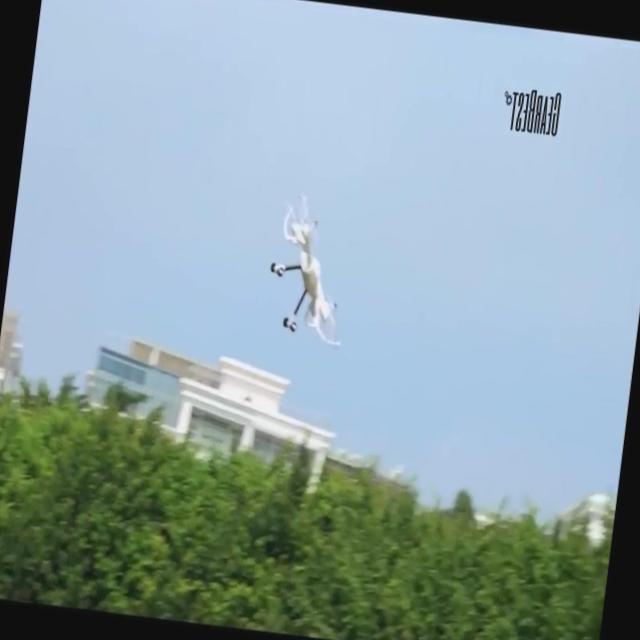drone: (258, 185, 356, 358)
